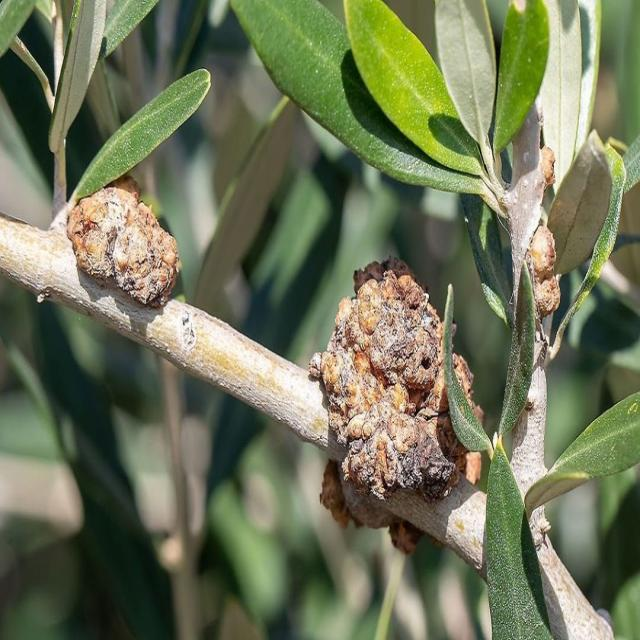Tuberculosis: (316, 257, 479, 553), (66, 175, 181, 314), (526, 224, 562, 319), (540, 140, 561, 209)
